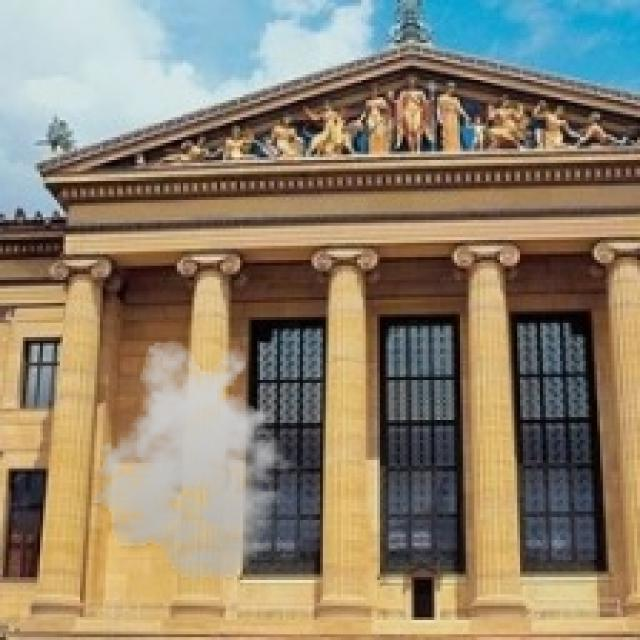smoke: (86, 337, 306, 583)
